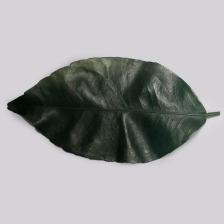healthy: (7, 56, 206, 164)
